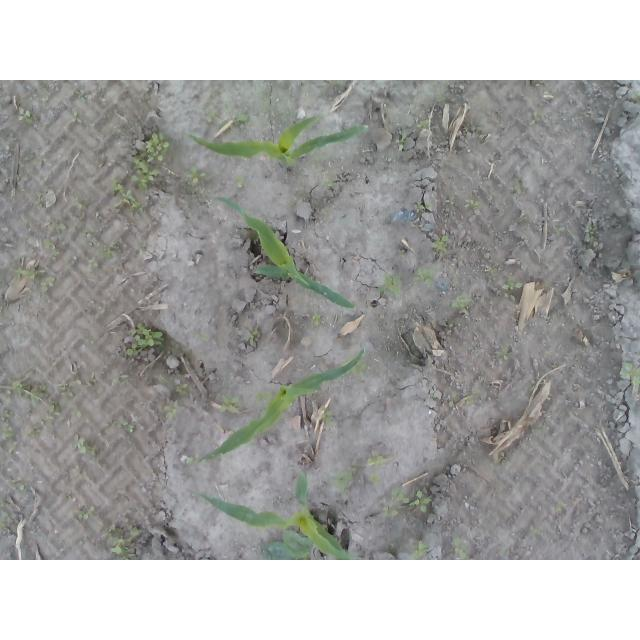Maize: (186, 346, 367, 467), (210, 194, 354, 309), (193, 472, 354, 561), (187, 115, 368, 174)
Weeds: (130, 129, 171, 193), (383, 487, 433, 518), (126, 323, 167, 357), (112, 175, 145, 215), (103, 526, 141, 560), (13, 379, 50, 409), (42, 223, 66, 258), (48, 383, 73, 414), (377, 273, 402, 300), (502, 277, 522, 304), (13, 265, 47, 280), (448, 536, 469, 560), (622, 359, 640, 385), (219, 394, 242, 414), (415, 265, 434, 289), (103, 240, 122, 264), (73, 439, 97, 458), (431, 234, 449, 258), (334, 470, 355, 490), (448, 293, 473, 309), (186, 166, 206, 185), (1, 495, 12, 529), (414, 539, 431, 560), (17, 106, 35, 125), (321, 408, 335, 432), (0, 424, 18, 442), (495, 345, 512, 364), (79, 504, 98, 521), (367, 450, 386, 466), (71, 191, 86, 210), (40, 276, 57, 292), (247, 327, 262, 345), (175, 382, 191, 398), (444, 193, 460, 208), (353, 358, 368, 374), (256, 391, 272, 406), (586, 224, 599, 242), (319, 205, 332, 223), (394, 136, 406, 153), (17, 484, 34, 496), (370, 471, 383, 486), (235, 112, 250, 125), (320, 178, 337, 189), (35, 192, 46, 209), (88, 256, 99, 273), (112, 375, 129, 386), (206, 111, 220, 124), (528, 525, 540, 540), (464, 199, 480, 210), (24, 431, 40, 442), (82, 227, 99, 237), (135, 239, 145, 256), (163, 405, 177, 417), (417, 119, 432, 130), (311, 312, 322, 327), (514, 178, 524, 194), (0, 391, 12, 404), (0, 410, 12, 423), (232, 176, 246, 187), (264, 95, 273, 111), (122, 422, 135, 433), (528, 111, 540, 122), (533, 422, 544, 434), (73, 112, 84, 124), (158, 375, 171, 385), (416, 202, 432, 210), (71, 407, 82, 418), (436, 96, 449, 105), (186, 456, 199, 465), (631, 92, 640, 104), (463, 393, 472, 404), (554, 224, 562, 236), (78, 96, 88, 105), (45, 415, 55, 424), (487, 265, 497, 273), (501, 456, 511, 464), (288, 400, 296, 407), (528, 384, 534, 393), (201, 335, 210, 341), (283, 222, 288, 232)
